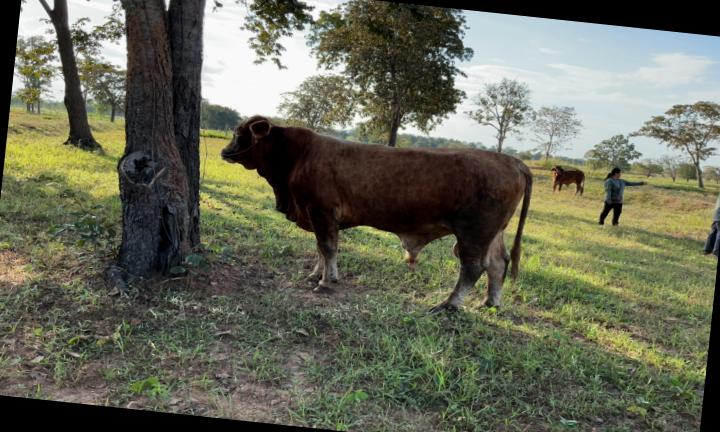Charolais: (221, 116, 532, 309)
